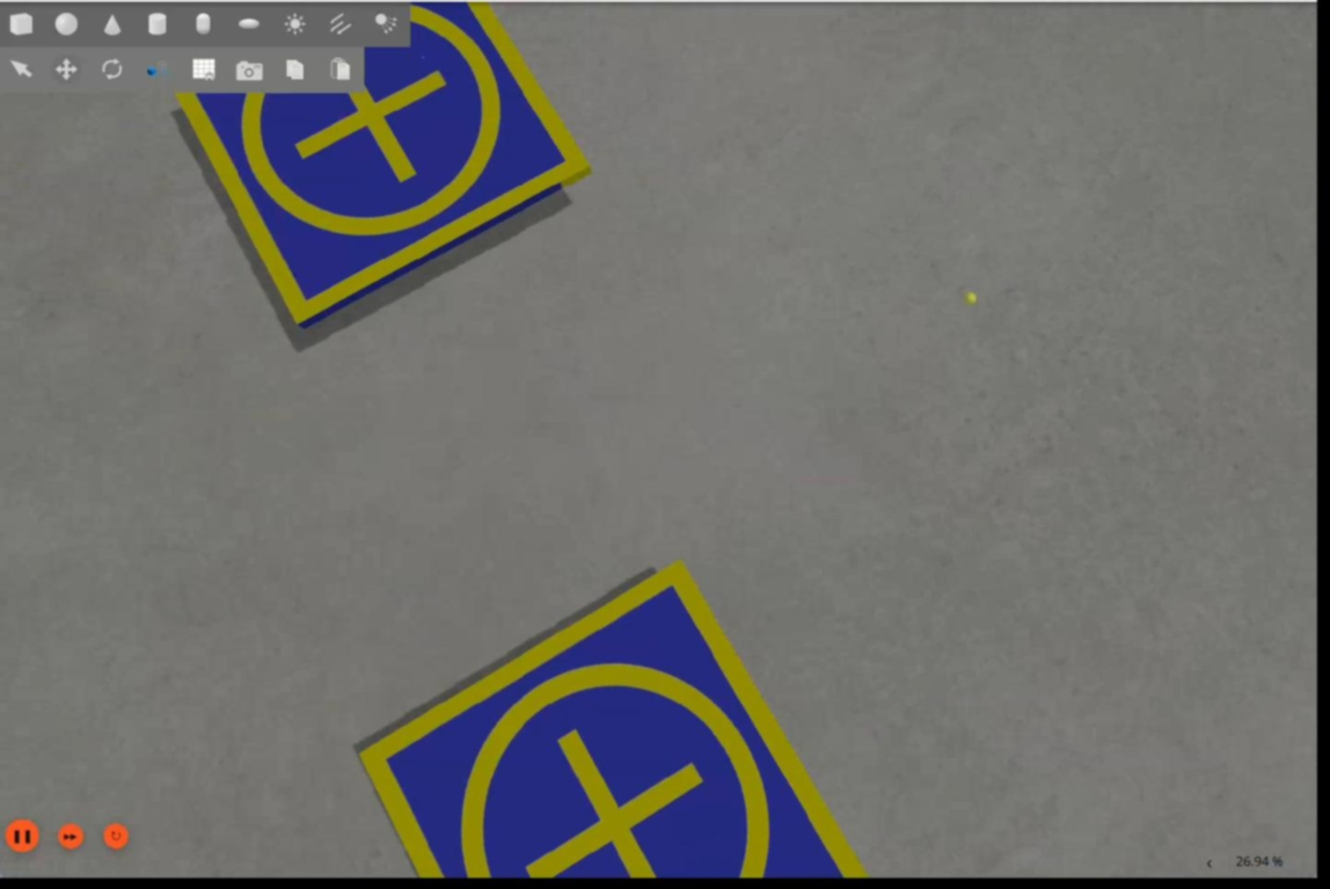small_base: (358, 556, 865, 879), (169, 1, 597, 330)
